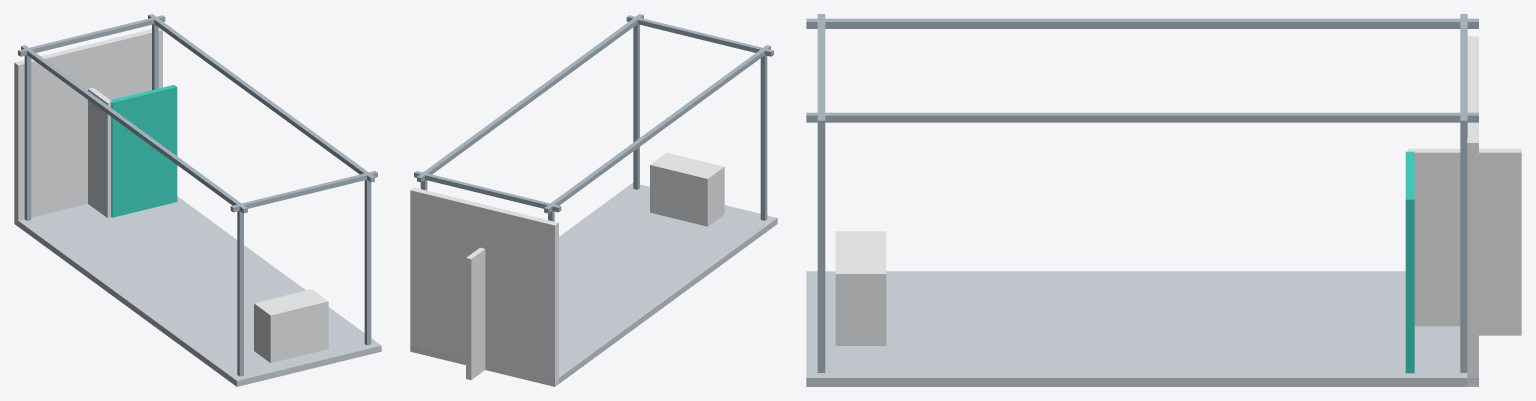
The picture shows the model from 3 angles, left to right: view 1: azimuth 30°, elevation 25°; view 2: azimuth 150°, elevation 25°; view 3: azimuth 270°, elevation 25°; orthographic projection. The views are drawn at different scales.
Parts seen in each view (by area): view 1: Exhibition Booth Concept; view 2: Exhibition Booth Concept; view 3: Exhibition Booth Concept.
Part boxes in pixels (x1,y1,x2,y2): Exhibition Booth Concept: (14,14,381,386); Exhibition Booth Concept: (410,14,777,386); Exhibition Booth Concept: (806,14,1521,386).
Bounding box in the file's own units: 3 × 3.49 × 8.51.
